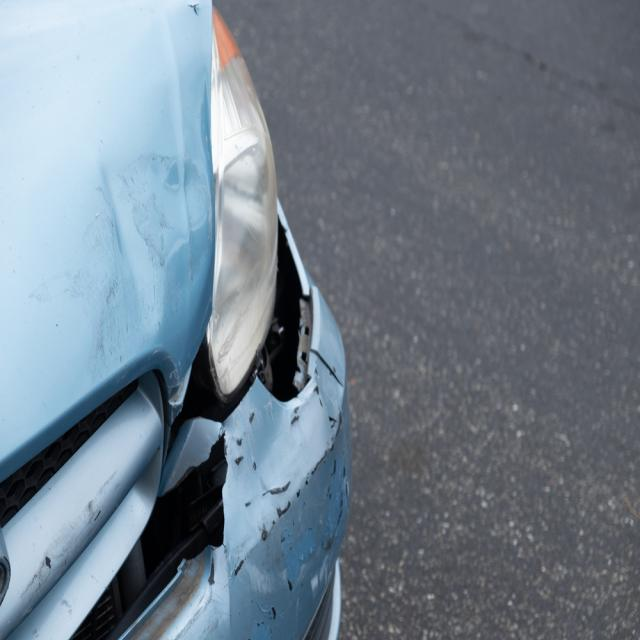crack: (163, 429, 228, 564), (310, 348, 345, 387)
dent: (93, 157, 215, 375)
scratch: (227, 352, 350, 618)
